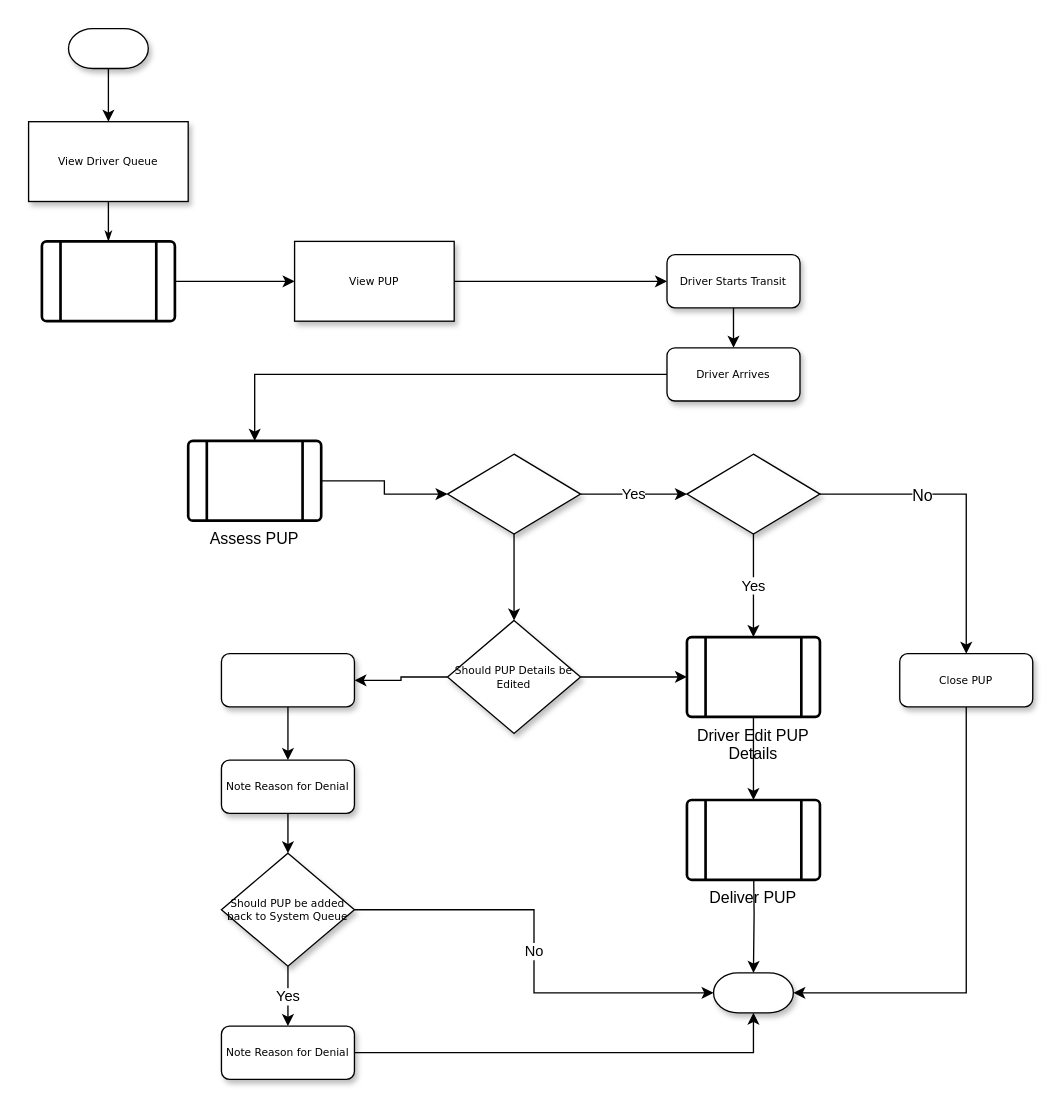
The diagram is 1064 pixels wide and 1112 high, and some of its shapes have lost their labels. Each missing label, with the centre of its shape:
Deny PUP: (288,681)
End: (754,994)
Is Green Bag: (754,495)
PUP Details are acceptable: (515,495)
Select PUP: (108,280)
Start: (109,50)
